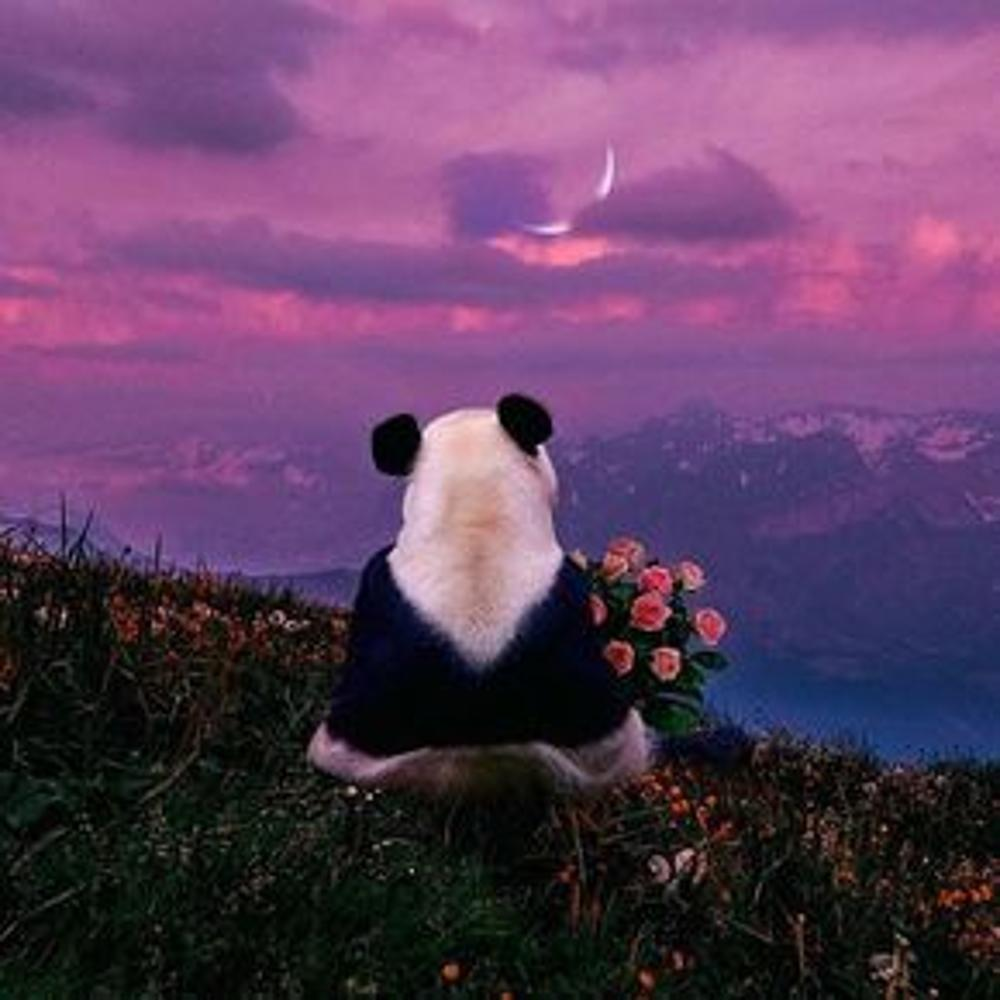panda: (304, 390, 654, 806)
